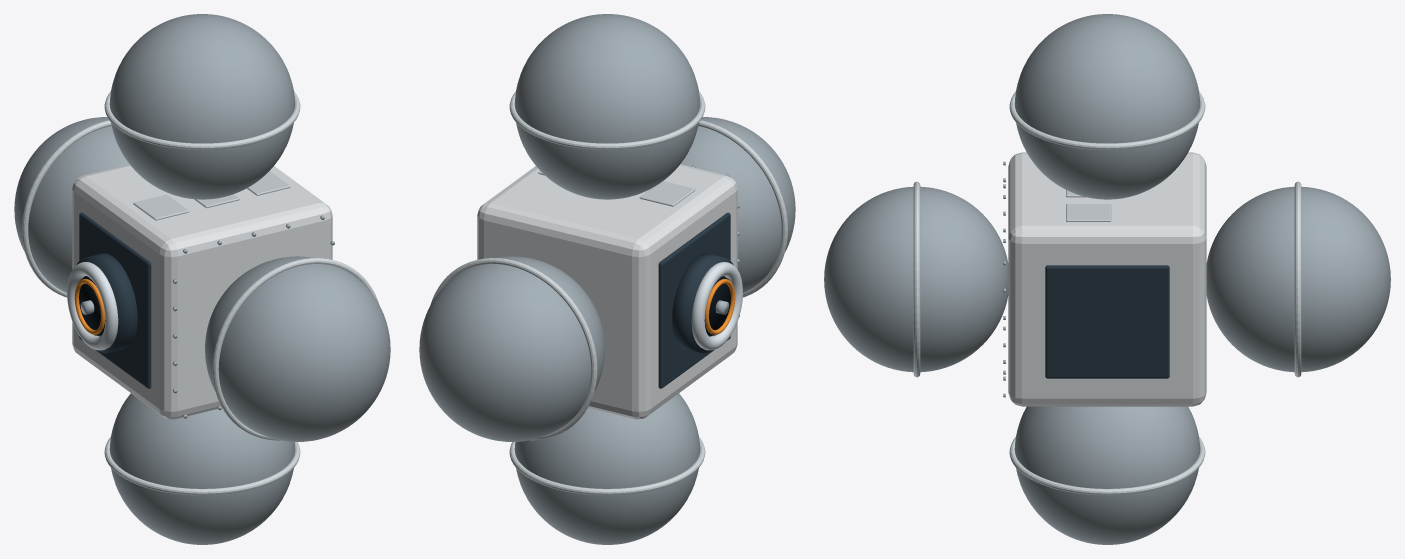
File: ios_depot_sim.glb
The picture shows the model from 3 angles, left to right: view 1: azimuth 30°, elevation 25°; view 2: azimuth 150°, elevation 25°; view 3: azimuth 270°, elevation 25°; orthographic projection.
Visible parts, largest first — view 1: central_square_white_bus, external_propellant_tank_01, external_propellant_tank_04, external_propellant_tank_02, external_propellant_tank_03, forward_docking_structure, depot_soft_capture_ring, depot_docking_housing, tank_restraint_band_04, tank_restraint_band_02, tank_restraint_band_01, tank_restraint_band_03 (+4 smaller); view 2: central_square_white_bus, external_propellant_tank_01, external_propellant_tank_03, external_propellant_tank_02, external_propellant_tank_04, forward_docking_structure, depot_soft_capture_ring, depot_docking_housing, tank_restraint_band_03, tank_restraint_band_02, tank_restraint_band_01, tank_restraint_band_04 (+3 smaller); view 3: central_square_white_bus, external_propellant_tank_03, external_propellant_tank_04, external_propellant_tank_01, external_propellant_tank_02, aft_service_panel, tank_restraint_band_02, tank_restraint_band_01, tank_restraint_band_03, tank_restraint_band_04, top_thermal_tile.002.
Part boxes in pixels (<box>): central_square_white_bus: <box>72,164,332,419</box>; external_propellant_tank_01: <box>109,14,295,199</box>; external_propellant_tank_04: <box>205,256,390,441</box>; external_propellant_tank_02: <box>109,393,295,544</box>; external_propellant_tank_03: <box>14,117,129,292</box>; forward_docking_structure: <box>79,212,151,388</box>; depot_soft_capture_ring: <box>67,262,118,350</box>; depot_docking_housing: <box>76,253,137,353</box>; tank_restraint_band_04: <box>212,258,379,440</box>; tank_restraint_band_02: <box>104,437,300,495</box>; tank_restraint_band_01: <box>104,91,300,149</box>; tank_restraint_band_03: <box>22,120,111,297</box>; central_square_white_bus: <box>477,164,737,419</box>; external_propellant_tank_01: <box>514,14,700,199</box>; external_propellant_tank_03: <box>419,256,604,441</box>; external_propellant_tank_02: <box>514,393,700,544</box>; external_propellant_tank_04: <box>680,117,795,292</box>; forward_docking_structure: <box>658,212,730,388</box>; depot_soft_capture_ring: <box>691,262,742,350</box>; depot_docking_housing: <box>672,253,733,353</box>; tank_restraint_band_03: <box>430,258,597,440</box>; tank_restraint_band_02: <box>509,437,705,495</box>; tank_restraint_band_01: <box>509,91,705,149</box>; tank_restraint_band_04: <box>698,120,787,297</box>; central_square_white_bus: <box>1008,152,1206,406</box>; external_propellant_tank_03: <box>1206,186,1390,372</box>; external_propellant_tank_04: <box>824,186,1008,372</box>; external_propellant_tank_01: <box>1014,14,1200,199</box>; external_propellant_tank_02: <box>1014,406,1200,544</box>; aft_service_panel: <box>1045,265,1169,378</box>; tank_restraint_band_02: <box>1009,437,1205,495</box>; tank_restraint_band_01: <box>1009,91,1205,149</box>; tank_restraint_band_03: <box>1294,181,1301,377</box>; tank_restraint_band_04: <box>913,181,920,377</box>; top_thermal_tile.002: <box>1066,204,1111,221</box>.
Bounding box in the file's own units: 2.54 × 6.01 × 6.01.
